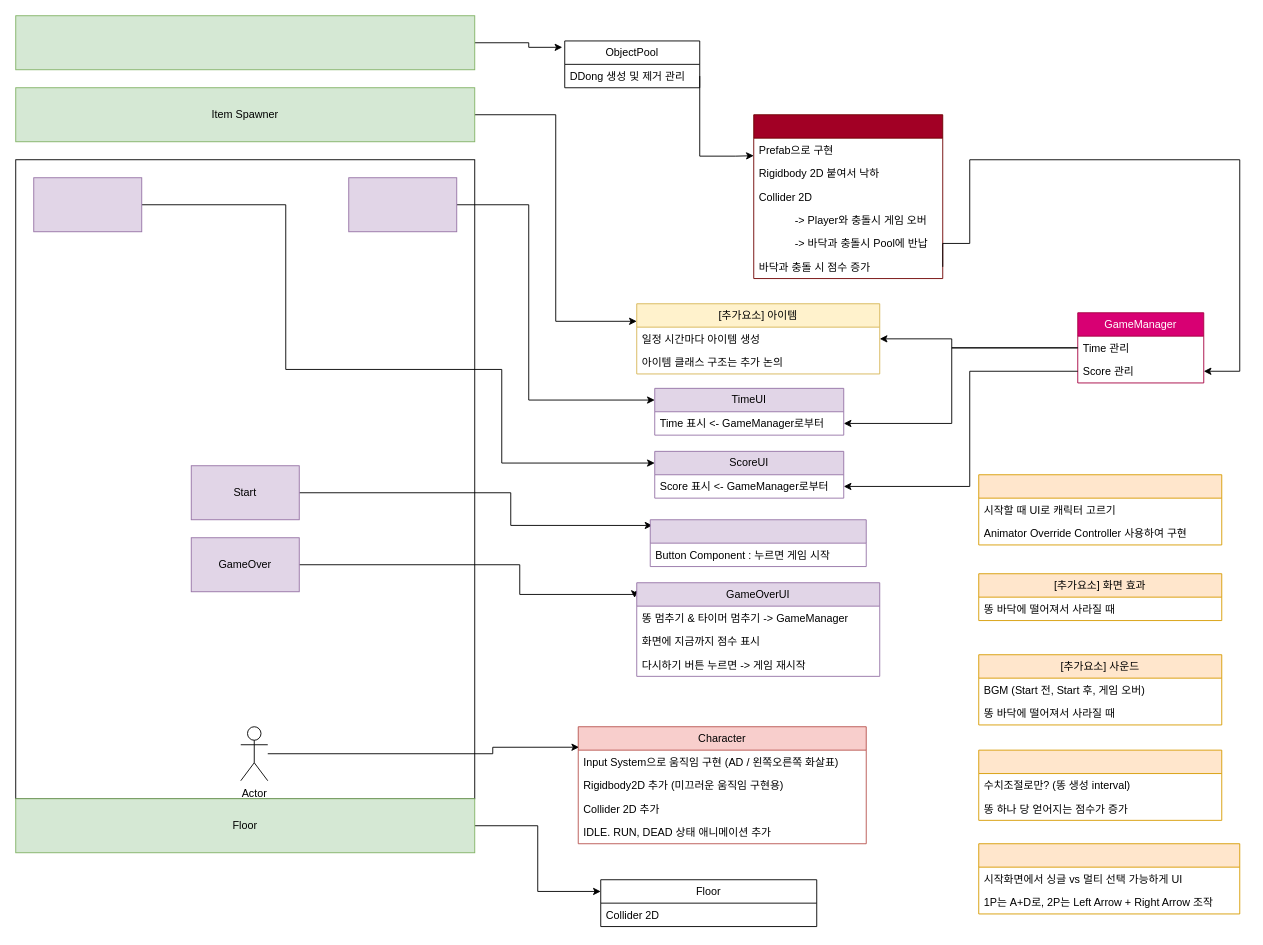
Image size: 1263x945. Some labels were removed from this diagram. The box of each missing label's shape, as (x1, y1, x2, y2) in pixels:
[추가요소] 난이도: (978, 749, 1222, 820)
[추가요소] 다양한 캐릭터 선택: (978, 474, 1222, 545)
[추가요소] 다중 플레이어: (978, 843, 1240, 914)
DDong: (753, 114, 943, 279)
DDong Spawner: (15, 15, 475, 70)
Score: (33, 177, 142, 232)
Start Button: (649, 519, 866, 567)
Time: (348, 177, 457, 232)
